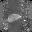people: (8, 14, 21, 23)
